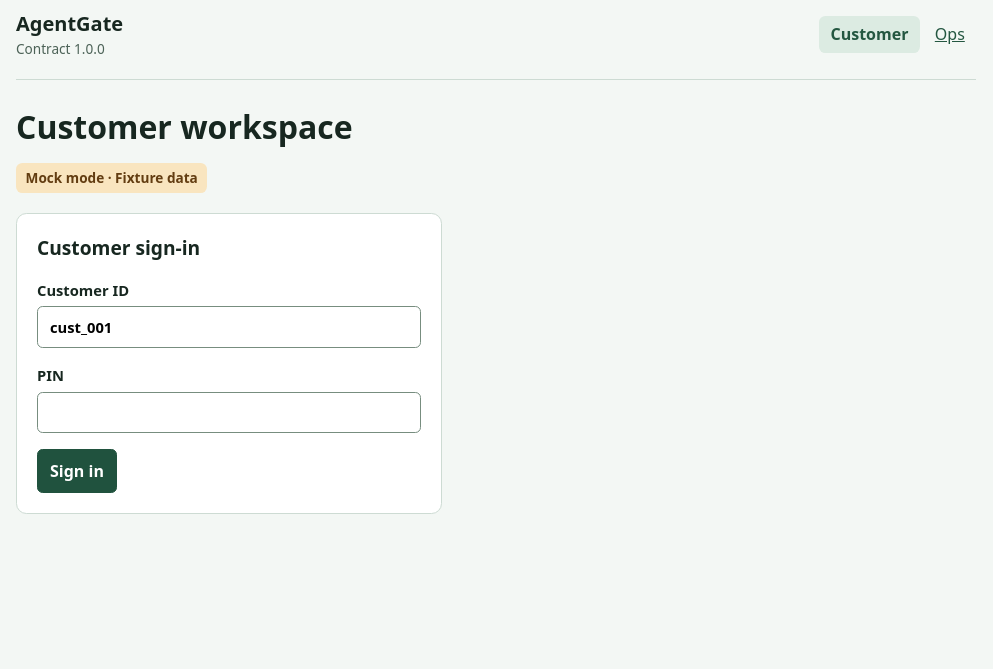
it: fixture-backed workspaces › rejects PIN 0426 and hides bootstrap
Type "0426" into the password field labelled "PIN" at (229, 412), box x1=37 y1=392 x2=421 y2=433
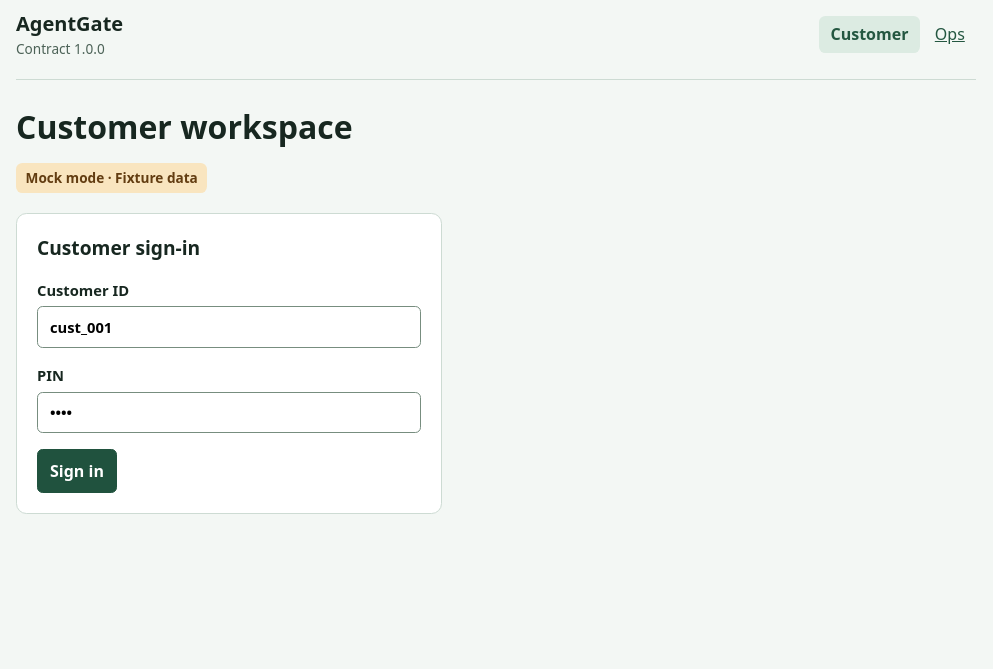
Click the button "Sign in" at (77, 471), box x1=37 y1=449 x2=117 y2=493
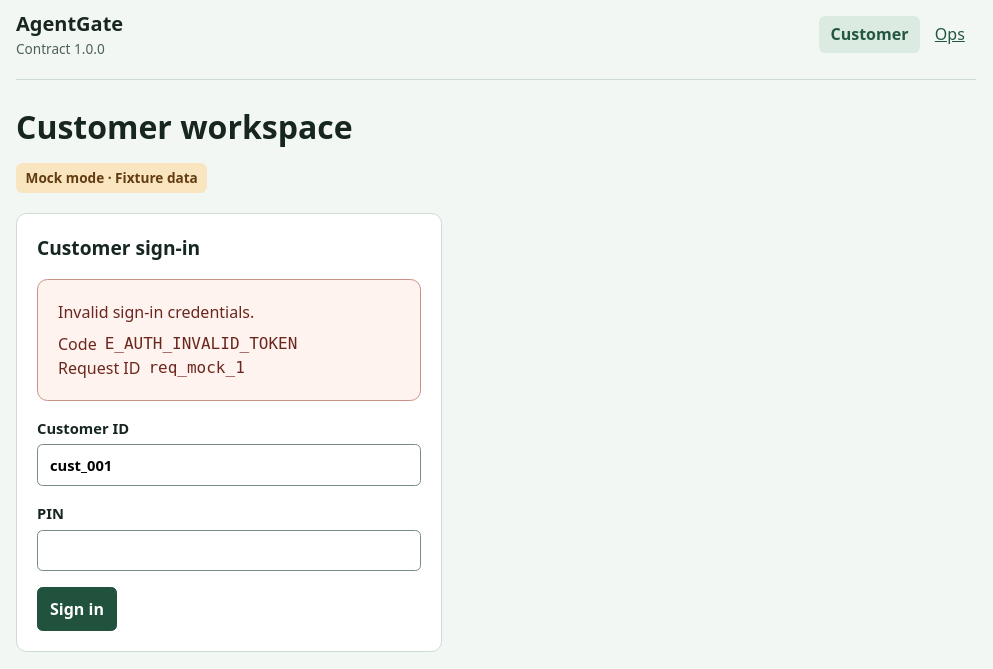
Now the message shows "Invalid sign-in credentials.", box x1=58 y1=301 x2=254 y2=323
Now the message shows "E_AUTH_INVALID_TOKEN", box x1=105 y1=334 x2=297 y2=353
Now the message shows "req_mock_1", box x1=148 y1=358 x2=245 y2=377
